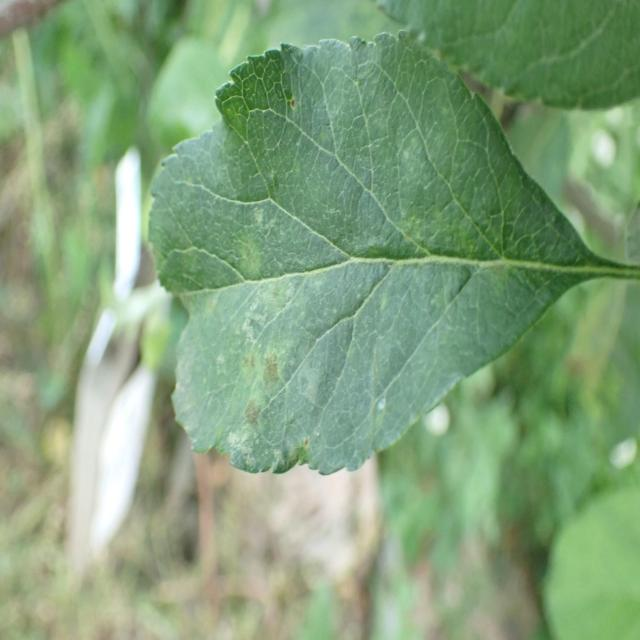scab: (158, 108, 536, 449)
